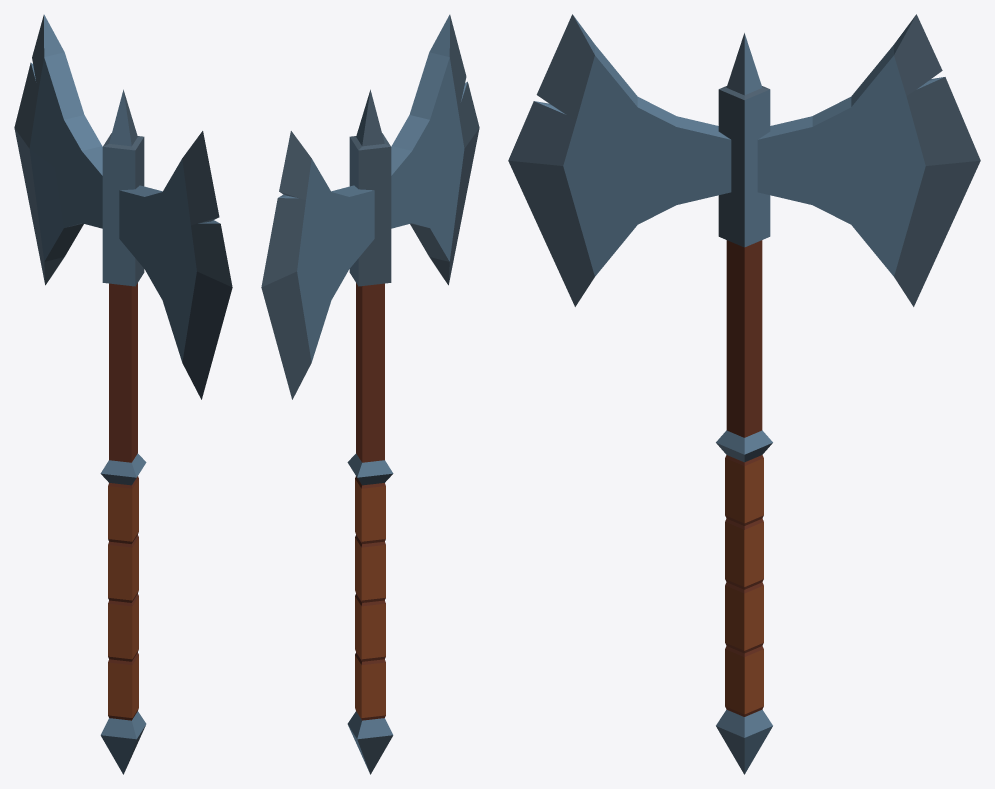
The model's file is SM_GreatAxe_A.fbx.
3 renders of one model, left to right at view 1: azimuth 30°, elevation 25°; view 2: azimuth 150°, elevation 25°; view 3: azimuth 270°, elevation 25°, orthographic. The views are drawn at different scales.
Visible parts, largest first — view 1: SM_GreatAxe_A; view 2: SM_GreatAxe_A; view 3: SM_GreatAxe_A.
Part boxes in pixels (<box>): SM_GreatAxe_A: <box>14,14,232,774</box>; SM_GreatAxe_A: <box>261,14,479,774</box>; SM_GreatAxe_A: <box>508,14,980,774</box>.
Bounding box in the file's own units: 0.16 × 2.33 × 1.31.
